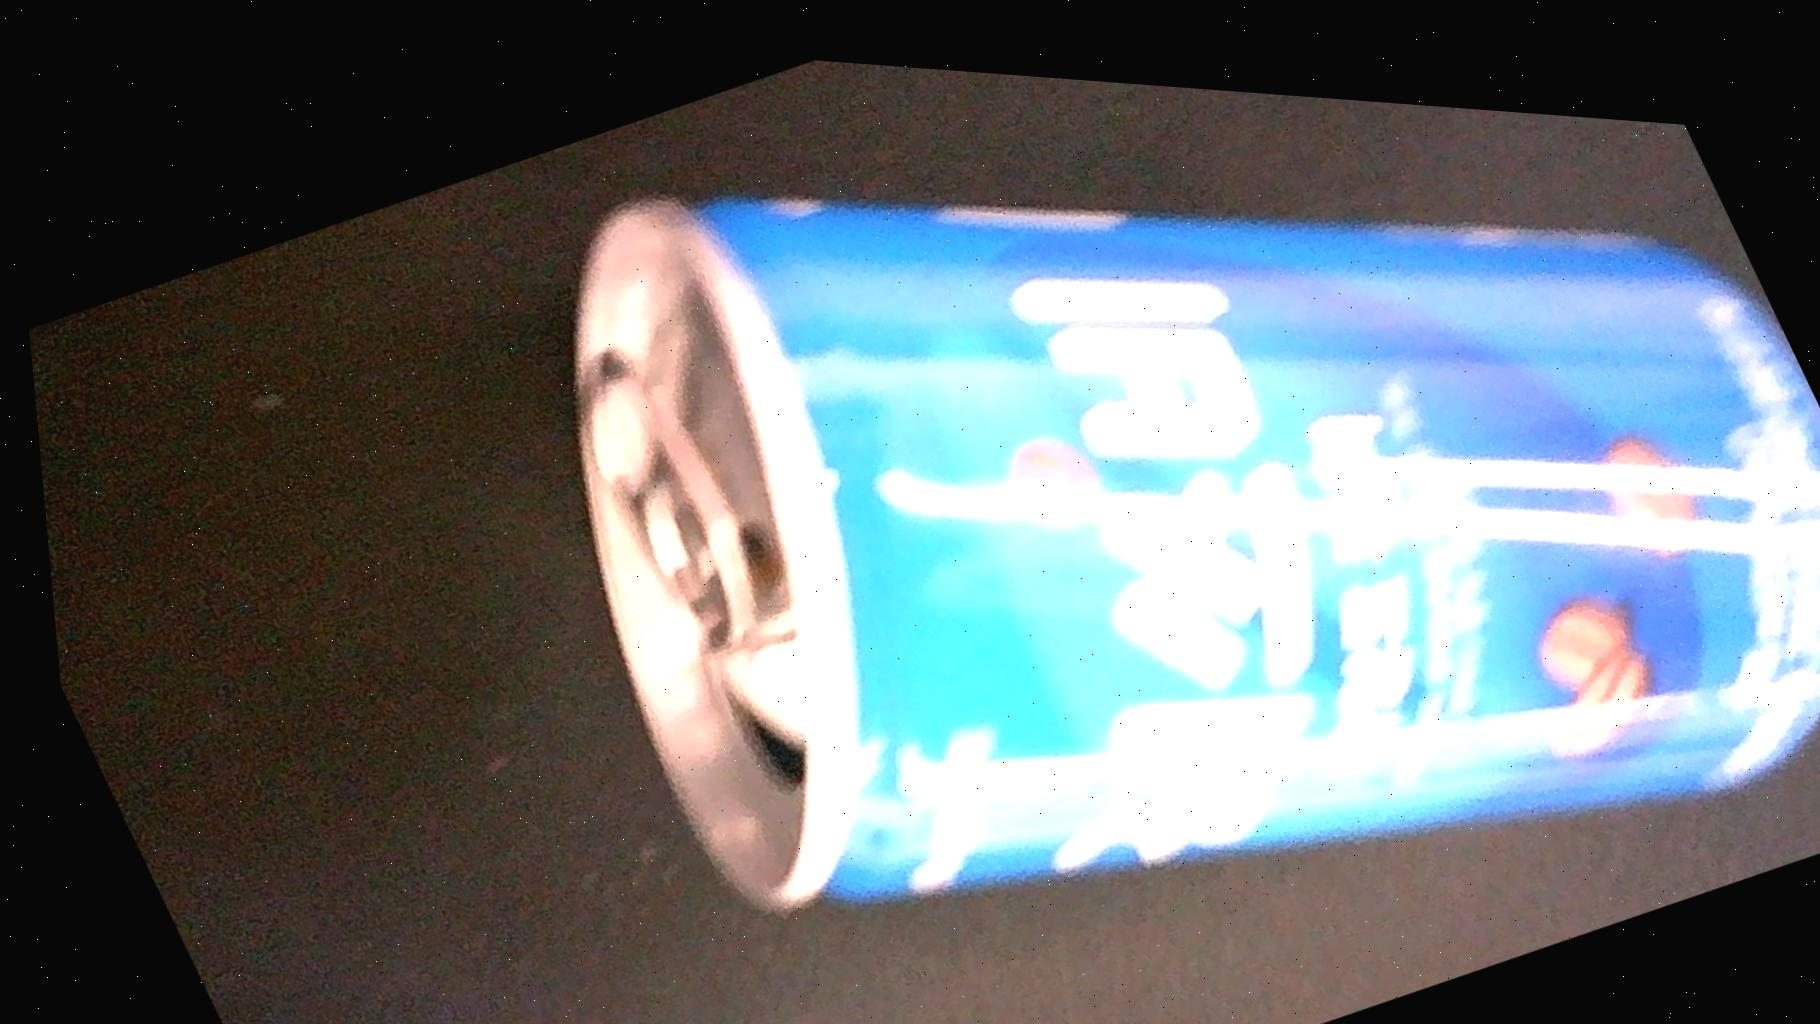letsbe: (397, 23, 1820, 1024)
